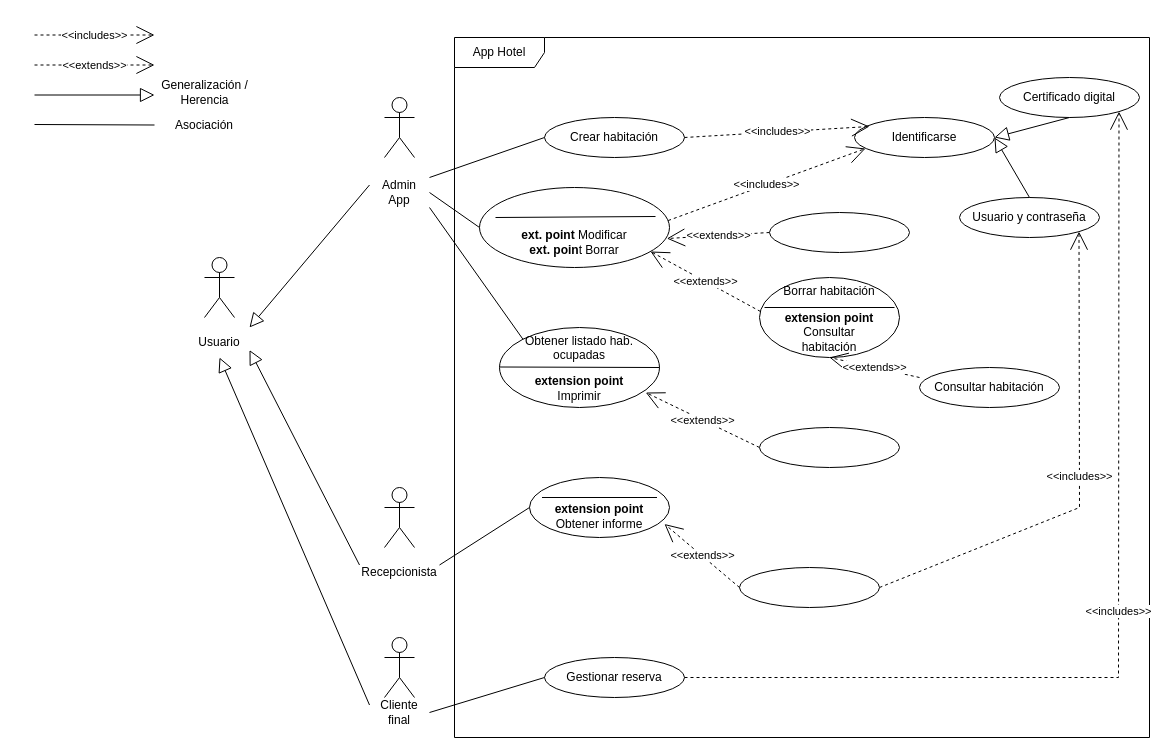
This 1169x755 diagram has some shape labels left out. The shapes that lost their labels are listed below. From the top down, each one's box as (x1, y1, x2, y2) in pixels, then its label:
(478, 186, 670, 268): Gestionar habitaciones
(768, 212, 910, 252): Modificar habitación
(758, 426, 900, 468): Imprimir PDF
(528, 476, 670, 538): Gestionar reservas
(738, 566, 880, 608): Obtener informe
